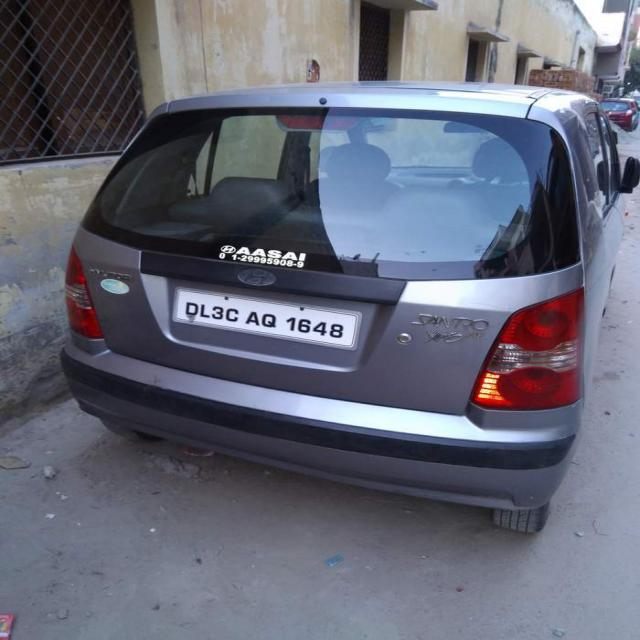Number-Plate: (179, 287, 363, 349)
